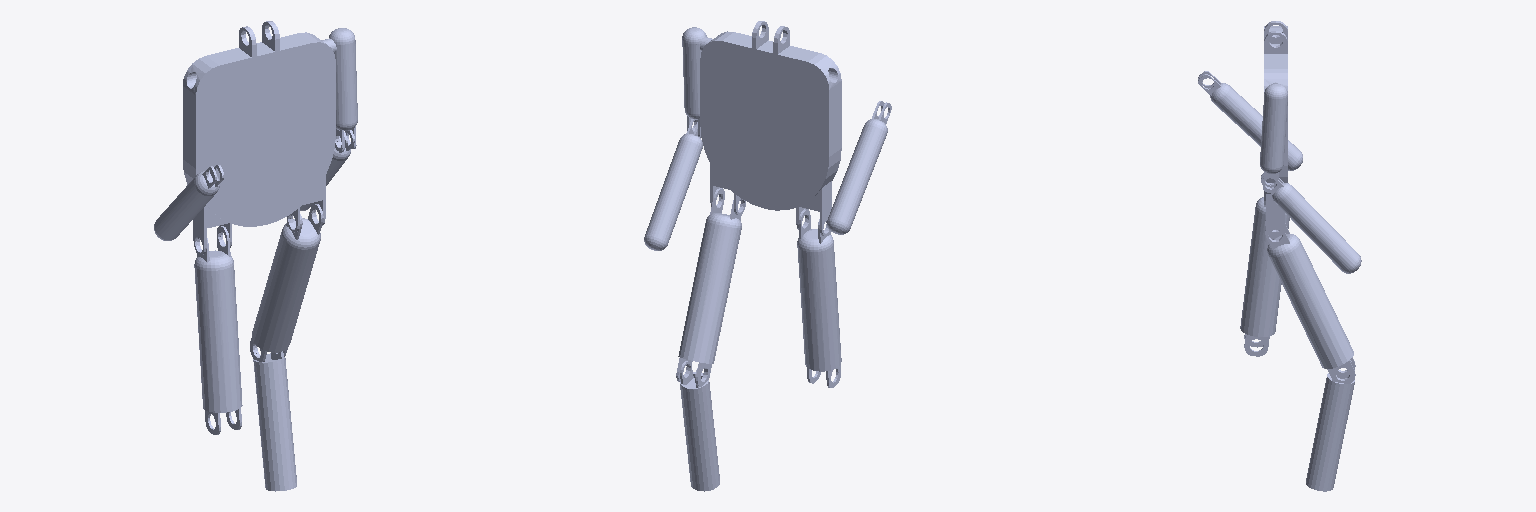
The robot description file, URDF, robot "human_urdf":
<?xml version="1.0" encoding="utf-8"?>
<!-- This URDF was automatically created by SolidWorks to URDF Exporter! Originally created by Stephen Brawner (brawner@gmail.com) 
     Commit Version: 1.6.0-4-g7f85cfe  Build Version: 1.6.7995.38578
     For more information, please see http://wiki.ros.org/sw_urdf_exporter -->
<robot
  name="human_urdf">

  <link name="base_footprint"/>

  <joint name="base_footprint_joint" type="fixed">
  <parent link="base_footprint"/>
  <child link="base_link"/>
  <origin xyz="0 0 0.08" rpy="3.14159 0 0"/>
  </joint>
  
  <link
    name="base_link">
    <inertial>
      <origin
        xyz="6.1619E-08 0.0025013 0.00081305"
        rpy="0 0 0" />
      <mass
        value="0.0046092" />
      <inertia
        ixx="4.1497E-07"
        ixy="-9.5688E-14"
        ixz="2.9922E-12"
        iyy="7.1384E-07"
        iyz="-9.7456E-11"
        izz="3.187E-07" />
    </inertial>
    <visual>
      <origin
        xyz="0 0 0"
        rpy="0 0 0" />
      <geometry>
        <mesh
          filename="package://human_urdf/meshes/base_link.STL" />
      </geometry>
      <material
        name="">
        <color
          rgba="0.79216 0.81961 0.93333 1" />
      </material>
    </visual>
    <collision>
      <origin
        xyz="0 0 0"
        rpy="0 0 0" />
      <geometry>
        <mesh
          filename="package://human_urdf/meshes/base_link.STL" />
      </geometry>
    </collision>
  </link>


  <link
    name="shoulderR_link">
    <inertial>
      <origin
        xyz="0.00037883 -0.0092283 0.0064976"
        rpy="0 0 0" />
      <mass
        value="0.00043205" />
      <inertia
        ixx="1.734E-08"
        ixy="1.263E-10"
        ixz="-8.2186E-10"
        iyy="1.5347E-08"
        iyz="2.1665E-09"
        izz="3.291E-09" />
    </inertial>
    <visual>
      <origin
        xyz="0 0 0"
        rpy="0 0 0" />
      <geometry>
        <mesh
          filename="package://human_urdf/meshes/shoulderR_link.STL" />
      </geometry>
      <material
        name="">
        <color
          rgba="0.79216 0.81961 0.93333 1" />
      </material>
    </visual>
    <collision>
      <origin
        xyz="0 0 0"
        rpy="0 0 0" />
      <geometry>
        <mesh
          filename="package://human_urdf/meshes/shoulderR_link.STL" />
      </geometry>
    </collision>
  </link>


  <joint
    name="joint_shoulderR"
    type="revolute">
    <origin
      xyz="0.0077756 0.0025 -0.013145"
      rpy="0 0 1.5708" />
    <parent
      link="base_link" />
    <child
      link="shoulderR_link" />
    <axis
      xyz="0 1 0" />
    <limit
        lower="-1.5708"
        upper="1.5708"
        effort="10"
        velocity="5" />
  </joint>

  <link
    name="elbowR_link">
    <inertial>
      <origin
        xyz="-0.010086 -0.0015 -0.010143"
        rpy="0 0 0" />
      <mass
        value="0.00047524" />
      <inertia
        ixx="1.2989E-08"
        ixy="-2.2731E-17"
        ixz="-1.1482E-08"
        iyy="2.4409E-08"
        iyz="8.351E-18"
        izz="1.2859E-08" />
    </inertial>
    <visual>
      <origin
        xyz="0 0 0"
        rpy="0 0 0" />
      <geometry>
        <mesh
          filename="package://human_urdf/meshes/elbowR_link.STL" />
      </geometry>
      <material
        name="">
        <color
          rgba="0.79216 0.81961 0.93333 1" />
      </material>
    </visual>
    <collision>
      <origin
        xyz="0 0 0"
        rpy="0 0 0" />
      <geometry>
        <mesh
          filename="package://human_urdf/meshes/elbowR_link.STL" />
      </geometry>
    </collision>
  </link>
  <joint
    name="joint_elbowR"
    type="revolute">
    <origin
      xyz="0.0011176 -0.0115 0.01917"
      rpy="3.1416 0.058237 0" />
    <parent
      link="shoulderR_link" />
    <child
      link="elbowR_link" />
    <axis
      xyz="0 1 0" />
    <limit
        lower="-0.875"
        upper="1.5708"
        effort="10"
        velocity="5" />
  </joint>


  <link
    name="shoulderL_link">
    <inertial>
      <origin
        xyz="-0.0047911 -0.0092283 0.0044054"
        rpy="0 0 0" />
      <mass
        value="0.00043205" />
      <inertia
        ixx="9.7231E-09"
        ixy="-1.5975E-09"
        ixz="7.0474E-09"
        iyy="1.5347E-08"
        iyz="1.4689E-09"
        izz="1.0908E-08" />
    </inertial>
    <visual>
      <origin
        xyz="0 0 0"
        rpy="0 0 0" />
      <geometry>
        <mesh
          filename="package://human_urdf/meshes/shoulderL_link.STL" />
      </geometry>
      <material
        name="">
        <color
          rgba="0.79216 0.81961 0.93333 1" />
      </material>
    </visual>
    <collision>
      <origin
        xyz="0 0 0"
        rpy="0 0 0" />
      <geometry>
        <mesh
          filename="package://human_urdf/meshes/shoulderL_link.STL" />
      </geometry>
    </collision>


  </link>
  <joint
    name="joint_shoulderL"
    type="revolute">
    <origin
      xyz="-0.0077756 0.0025 -0.013145"
      rpy="0 0 -1.5708" />
    <parent
      link="base_link" />
    <child
      link="shoulderL_link" />
    <axis
      xyz="0 1 0" />
    <limit
        lower="-1.5708"
        upper="1.5708"
        effort="10"
        velocity="5" />
  </joint>


  <link
    name="elbowL_link">
    <inertial>
      <origin
        xyz="-0.010017 -0.0015 0.010211"
        rpy="0 0 0" />
      <mass
        value="0.00047524" />
      <inertia
        ixx="1.3144E-08"
        ixy="1.683E-17"
        ixz="1.148E-08"
        iyy="2.4409E-08"
        iyz="1.4289E-17"
        izz="1.2704E-08" />
    </inertial>
    <visual>
      <origin
        xyz="0 0 0"
        rpy="0 0 0" />
      <geometry>
        <mesh
          filename="package://human_urdf/meshes/elbowL_link.STL" />
      </geometry>
      <material
        name="">
        <color
          rgba="0.79216 0.81961 0.93333 1" />
      </material>
    </visual>
    <collision>
      <origin
        xyz="0 0 0"
        rpy="0 0 0" />
      <geometry>
        <mesh
          filename="package://human_urdf/meshes/elbowL_link.STL" />
      </geometry>
    </collision>
  </link>
  <joint
    name="joint_elbowL"
    type="revolute">
    <origin
      xyz="-0.014135 -0.0115 0.012997"
      rpy="0 0 3.1416" />
    <parent
      link="shoulderL_link" />
    <child
      link="elbowL_link" />
    <axis
      xyz="0 1 0" />
    <limit
        lower="-0.942"
        upper="1.5708"
        effort="10"
        velocity="5" />
  </joint>
  <link
    name="neck_link">
    <inertial>
      <origin
        xyz="0.00025028 0.004 -0.011501"
        rpy="0 0 0" />
      <mass
        value="0.0078498" />
      <inertia
        ixx="5.37E-07"
        ixy="2.9708E-23"
        ixz="9.9049E-09"
        iyy="4.3754E-07"
        iyz="-2.5878E-23"
        izz="5.4124E-07" />
    </inertial>
    <visual>
      <origin
        xyz="0 0 0"
        rpy="0 0 0" />
      <geometry>
        <mesh
          filename="package://human_urdf/meshes/neck_link.STL" />
      </geometry>
      <material
        name="">
        <color
          rgba="0.79216 0.81961 0.93333 1" />
      </material>
    </visual>
    <collision>
      <origin
        xyz="0 0 0"
        rpy="0 0 0" />
      <geometry>
        <mesh
          filename="package://human_urdf/meshes/neck_link.STL" />
      </geometry>
    </collision>
  </link>
  <joint
    name="joint_neck"
    type="revolute">
    <origin
      xyz="0.004 0.0024699 -0.018935"
      rpy="0 0 1.5708" />
    <parent
      link="base_link" />
    <child
      link="neck_link" />
    <axis
      xyz="0 1 0" />
    <limit
        lower="-1.5708"
        upper="1.5708"
        effort="10"
        velocity="5" />
  </joint>
  <link
    name="waistR_link">
    <inertial>
      <origin
        xyz="0.0068854 -0.0025 0.015762"
        rpy="0 0 0" />
      <mass
        value="0.0013009" />
      <inertia
        ixx="9.0303E-08"
        ixy="-1.1619E-14"
        ixz="-3.5584E-08"
        iyy="1.0576E-07"
        iyz="4.8063E-15"
        izz="2.4388E-08" />
    </inertial>
    <visual>
      <origin
        xyz="0 0 0"
        rpy="0 0 0" />
      <geometry>
        <mesh
          filename="package://human_urdf/meshes/waistR_link.STL" />
      </geometry>
      <material
        name="">
        <color
          rgba="0.79216 0.81961 0.93333 1" />
      </material>
    </visual>
    <collision>
      <origin
        xyz="0 0 0"
        rpy="0 0 0" />
      <geometry>
        <mesh
          filename="package://human_urdf/meshes/waistR_link.STL" />
      </geometry>
    </collision>
  </link>
  <joint
    name="joint_waistR"
    type="revolute">
    <origin
      xyz="0.0125 0.002366 0.021363"
      rpy="0 0 -1.5708" />
    <parent
      link="base_link" />
    <child
      link="waistR_link" />
    <axis
      xyz="0 1 0" />
    <limit
        lower="-1.5708"
        upper="1.5708"
        effort="10"
        velocity="5" />
  </joint>
  <link
    name="kneeR_link">
    <inertial>
      <origin
        xyz="0.0081339 -0.0025 -0.012311"
        rpy="0 0 0" />
      <mass
        value="0.00070121" />
      <inertia
        ixx="2.7167E-08"
        ixy="-1.4134E-25"
        ixz="1.6128E-08"
        iyy="3.7994E-08"
        iyz="2.6849E-25"
        izz="1.4034E-08" />
    </inertial>
    <visual>
      <origin
        xyz="0 0 0"
        rpy="0 0 0" />
      <geometry>
        <mesh
          filename="package://human_urdf/meshes/kneeR_link.STL" />
      </geometry>
      <material
        name="">
        <color
          rgba="0.79216 0.81961 0.93333 1" />
      </material>
    </visual>
    <collision>
      <origin
        xyz="0 0 0"
        rpy="0 0 0" />
      <geometry>
        <mesh
          filename="package://human_urdf/meshes/kneeR_link.STL" />
      </geometry>
    </collision>
  </link>
  <joint
    name="joint_kneeR"
    type="revolute">
    <origin
      xyz="0.013702 0 0.031367"
      rpy="-3.1416 -0.41185 -3.1416" />
    <parent
      link="waistR_link" />
    <child
      link="kneeR_link" />
    <axis
      xyz="0 1 0" />
    <limit
        lower="-1.5708"
        upper="0.75"
        effort="10"
        velocity="5" />
  </joint>
  <link
    name="waistL_link">
    <inertial>
      <origin
        xyz="0.0020088 -0.0025 0.01764"
        rpy="0 0 0" />
      <mass
        value="0.0013009" />
      <inertia
        ixx="1.0461E-07"
        ixy="-1.2411E-14"
        ixz="-1.0905E-08"
        iyy="1.0576E-07"
        iyz="1.2626E-15"
        izz="1.0085E-08" />
    </inertial>
    <visual>
      <origin
        xyz="0 0 0"
        rpy="0 0 0" />
      <geometry>
        <mesh
          filename="package://human_urdf/meshes/waistL_link.STL" />
      </geometry>
      <material
        name="">
        <color
          rgba="0.79216 0.81961 0.93333 1" />
      </material>
    </visual>
    <collision>
      <origin
        xyz="0 0 0"
        rpy="0 0 0" />
      <geometry>
        <mesh
          filename="package://human_urdf/meshes/waistL_link.STL" />
      </geometry>
    </collision>
  </link>
  <joint
    name="joint_waistL"
    type="revolute">
    <origin
      xyz="-0.0125 0.0025878 0.020855"
      rpy="0 0 1.5708" />
    <parent
      link="base_link" />
    <child
      link="waistL_link" />
    <axis
      xyz="0 1 0" />
    <limit
        lower="-1.5708"
        upper="1.5708"
        effort="10"
        velocity="5" />
  </joint>
  <link
    name="kneeL_link">
    <inertial>
      <origin
        xyz="-0.0019132 -0.0025 -0.014449"
        rpy="0 0 0" />
      <mass
        value="0.00070121" />
      <inertia
        ixx="3.7413E-08"
        ixy="-4.1598E-25"
        ixz="-4.5321E-09"
        iyy="3.7994E-08"
        iyz="-3.2616E-24"
        izz="3.7868E-09" />
    </inertial>
    <visual>
      <origin
        xyz="0 0 0"
        rpy="0 0 0" />
      <geometry>
        <mesh
          filename="package://human_urdf/meshes/kneeL_link.STL" />
      </geometry>
      <material
        name="">
        <color
          rgba="0.79216 0.81961 0.93333 1" />
      </material>
    </visual>
    <collision>
      <origin
        xyz="0 0 0"
        rpy="0 0 0" />
      <geometry>
        <mesh
          filename="package://human_urdf/meshes/kneeL_link.STL" />
      </geometry>
    </collision>
  </link>
  <joint
    name="joint_kneeL"
    type="revolute">
    <origin
      xyz="0.0039601 0 0.034775"
      rpy="3.1416 -0.11339 -3.1416" />
    <parent
      link="waistL_link" />
    <child
      link="kneeL_link" />
    <axis
      xyz="0 1 0" />
    <limit
        lower="-0.2"
        upper="1.5708"
        effort="10"
        velocity="5" />
  </joint>
</robot>

--- Facts derived from the render (not from the file) ---
Views: 3 orthographic renders of the robot side by side, from view 1: azimuth 30°, elevation 25°; view 2: azimuth 150°, elevation 25°; view 3: azimuth 270°, elevation 25°.
Robot: human_urdf — 11 links, 10 joints (9 revolute, 1 fixed); root link base_footprint; default pose: all joints at 0.
Links seen in each view (by area): view 1: base_link, waistL_link, waistR_link, kneeR_link, shoulderR_link, elbowL_link, elbowR_link; view 2: base_link, waistR_link, waistL_link, kneeR_link, elbowL_link, elbowR_link, shoulderR_link; view 3: waistR_link, waistL_link, kneeR_link, elbowR_link, base_link, shoulderR_link, elbowL_link.
Link boxes in pixels (x1,y1,x2,y2): base_link: (183,21,335,254); waistL_link: (194,226,242,434); waistR_link: (250,204,323,361); kneeR_link: (253,344,296,491); shoulderR_link: (322,28,357,151); elbowL_link: (154,165,224,240); elbowR_link: (300,130,354,210); base_link: (700,21,841,235); waistR_link: (676,188,742,386); waistL_link: (797,209,841,387); kneeR_link: (680,361,719,491); elbowL_link: (827,101,891,234); elbowR_link: (644,119,702,250); shoulderR_link: (682,27,712,137); waistR_link: (1265,220,1355,383); waistL_link: (1240,197,1289,356); kneeR_link: (1306,360,1354,491); elbowR_link: (1261,173,1361,273); base_link: (1264,21,1287,244); shoulderR_link: (1260,82,1287,192); elbowL_link: (1198,71,1302,170).
Bounding box of the posed robot: 0.0405 × 0.034 × 0.1012 m (x, y, z).
7 mesh visuals loaded from 10 distinct referenced files (7 binary STL); not drawn: 3 (file found but could not be loaded).
